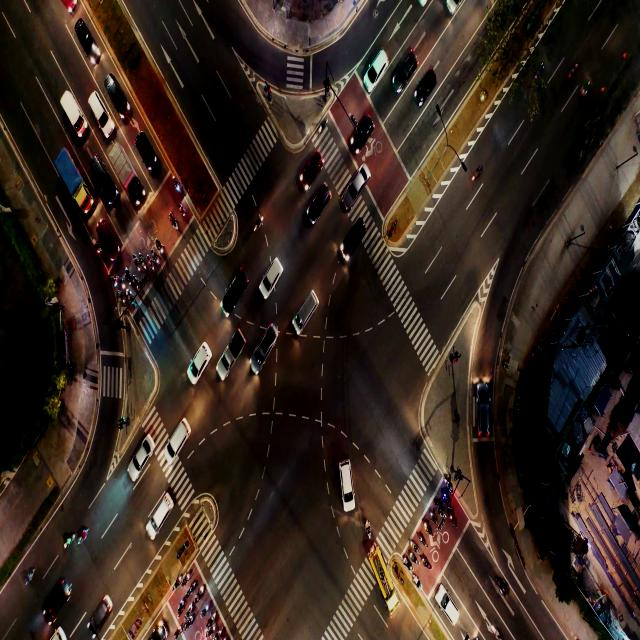bus: (380, 566, 388, 591)
car: (156, 495, 170, 522), (477, 397, 491, 424), (268, 257, 279, 289), (190, 353, 208, 372), (349, 220, 363, 244), (302, 295, 314, 320), (57, 581, 71, 602), (102, 220, 112, 247), (444, 594, 454, 620), (138, 445, 148, 470), (260, 337, 272, 357), (342, 471, 352, 495), (172, 428, 186, 444), (235, 269, 245, 291), (82, 30, 92, 52), (142, 133, 151, 157), (96, 600, 105, 623), (358, 125, 370, 142), (308, 156, 320, 173), (352, 172, 363, 190), (113, 86, 123, 104), (97, 165, 106, 184), (424, 72, 434, 89), (95, 100, 103, 121), (314, 192, 324, 208), (374, 55, 383, 70), (156, 626, 166, 639), (406, 56, 414, 72)
motorcycle: (78, 528, 90, 544), (535, 65, 544, 83), (473, 164, 481, 184), (64, 532, 72, 551), (254, 214, 264, 229), (581, 81, 590, 96), (319, 120, 327, 136), (492, 625, 501, 639), (568, 64, 578, 75), (27, 571, 37, 582), (366, 520, 372, 538), (499, 578, 505, 594), (174, 181, 181, 190), (190, 582, 196, 592), (412, 555, 418, 564), (176, 575, 182, 584), (204, 603, 210, 612), (209, 626, 215, 635), (425, 523, 430, 533), (423, 556, 428, 566), (179, 598, 185, 606), (451, 517, 456, 526), (176, 625, 180, 636), (446, 482, 452, 489), (405, 559, 411, 566), (445, 496, 450, 504), (415, 576, 420, 584), (96, 246, 100, 256), (211, 613, 216, 621), (199, 586, 203, 595), (159, 247, 164, 254), (185, 573, 190, 580), (120, 294, 124, 302), (188, 604, 192, 612), (421, 538, 426, 544), (172, 222, 177, 228), (128, 273, 131, 283), (121, 281, 124, 291), (136, 282, 140, 289), (127, 293, 131, 300), (219, 628, 222, 637), (438, 506, 442, 512), (411, 542, 415, 548), (156, 258, 160, 264), (143, 263, 146, 271), (113, 279, 116, 287), (189, 616, 193, 622), (433, 516, 436, 523), (182, 210, 185, 217), (138, 265, 141, 272), (152, 266, 154, 270)
truck: (66, 160, 78, 193), (224, 342, 234, 367), (68, 102, 78, 123), (124, 162, 132, 180)
